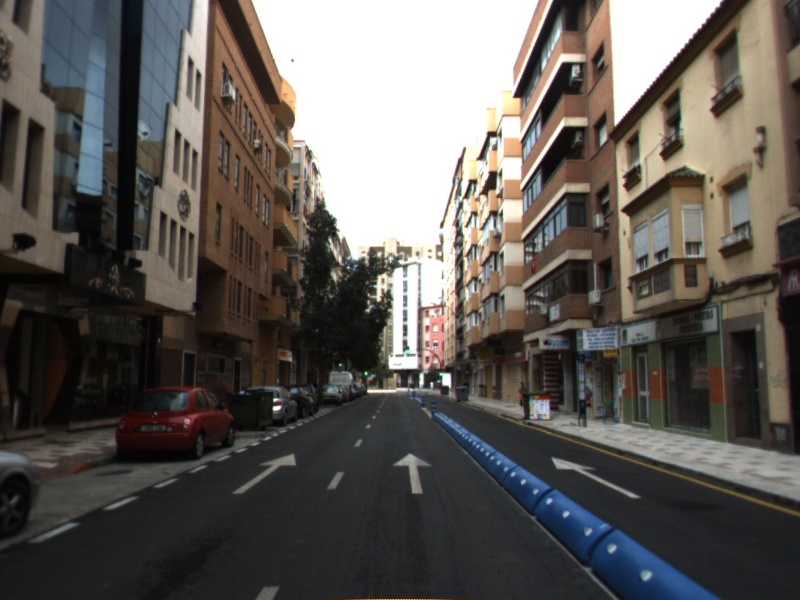STRAIGHT: (550, 455, 643, 500), (230, 451, 298, 496), (392, 451, 434, 495)
